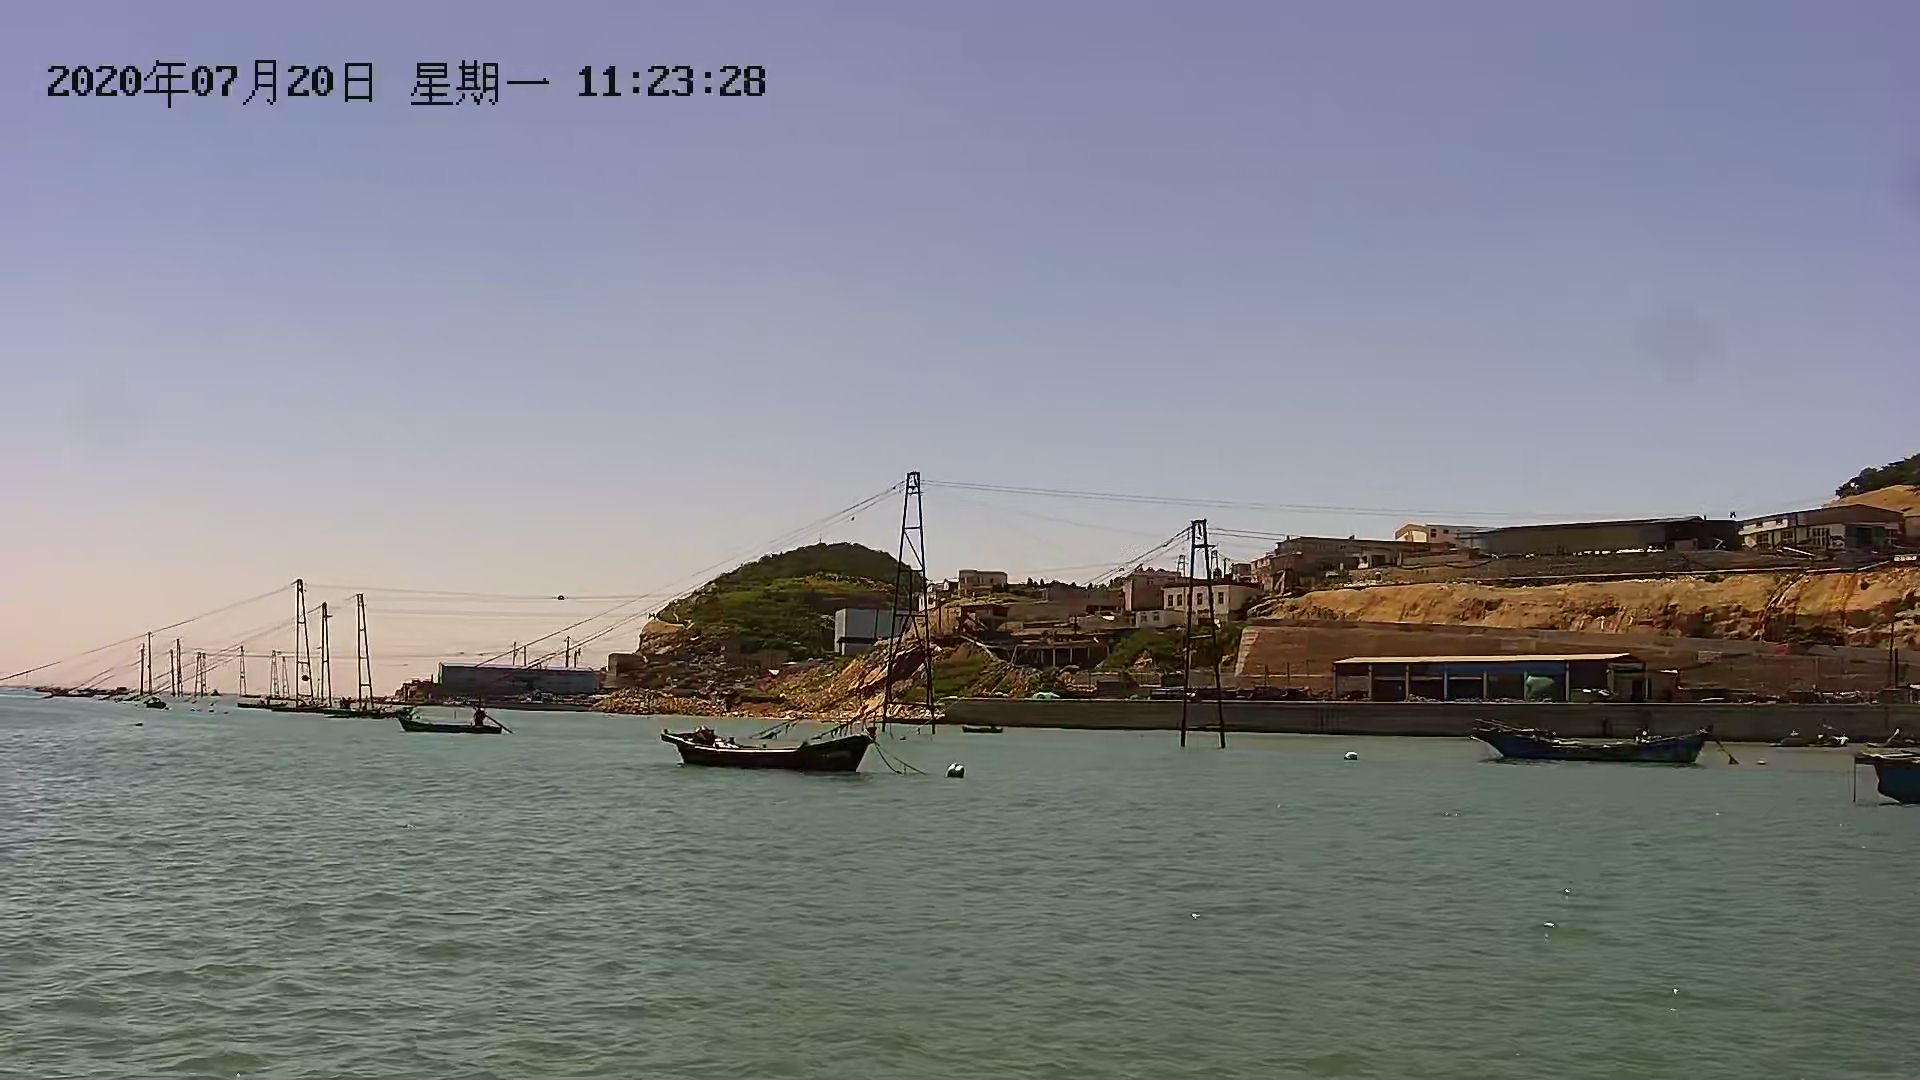ball: (942, 760, 968, 781), (1341, 745, 1364, 761)
boat: (1456, 712, 1714, 779), (655, 723, 882, 778), (386, 711, 509, 740)
mast: (876, 462, 949, 735), (1164, 509, 1228, 757)
